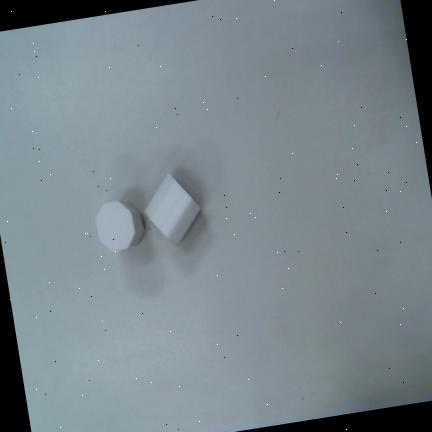Prisma_hexagonal: (145, 173, 202, 245), (95, 200, 144, 251)
